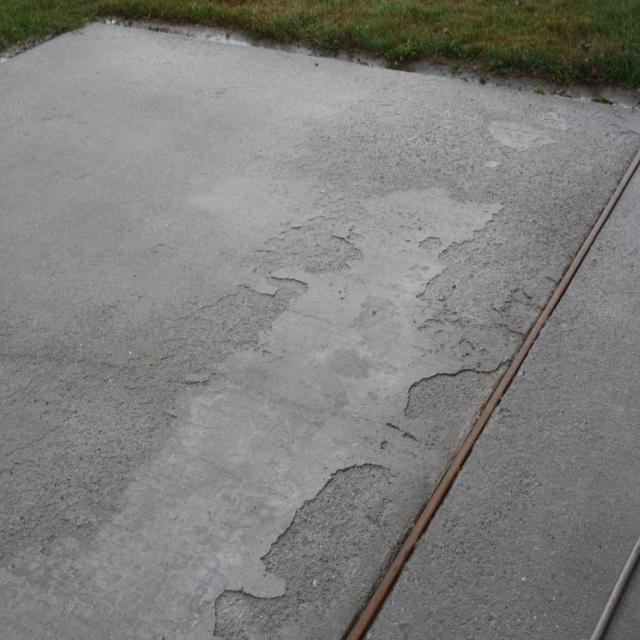efflorescence: (81, 190, 497, 635)
